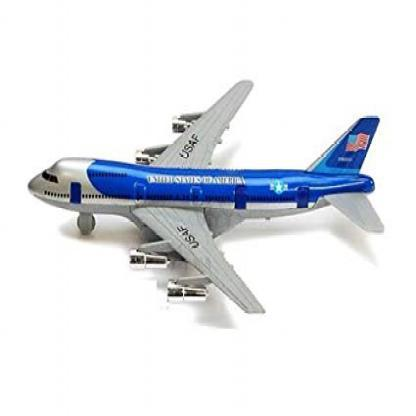CIV_Plane: (22, 63, 391, 326)
